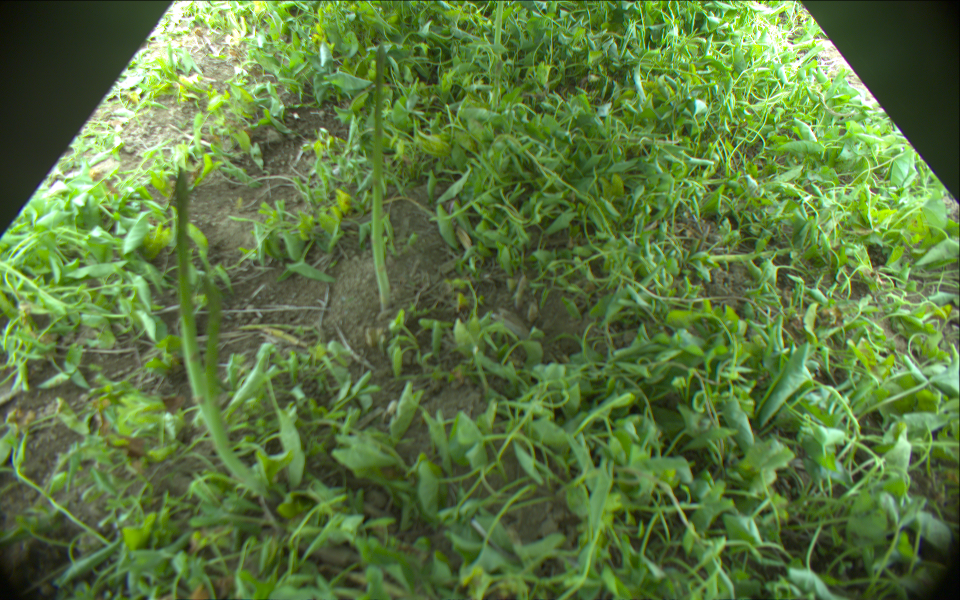aspa: (200, 275, 270, 499), (168, 168, 205, 420), (374, 43, 392, 311), (493, 1, 506, 47)
